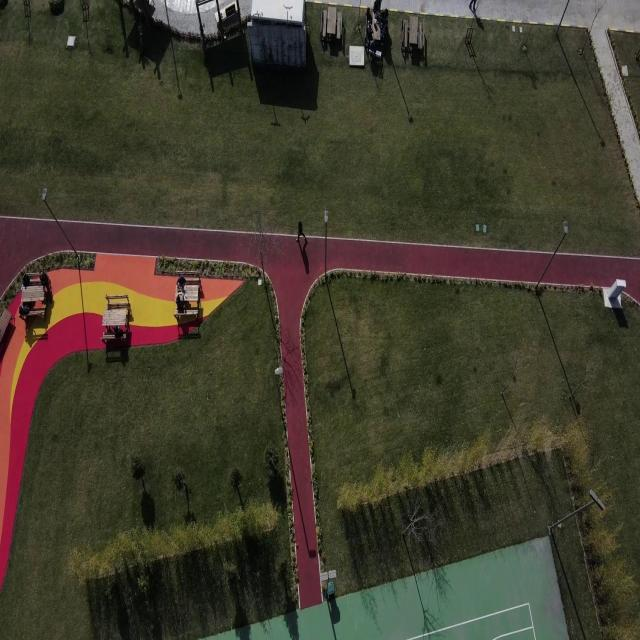p3rson: (39, 272, 52, 304), (296, 221, 307, 244), (175, 290, 185, 310), (112, 324, 123, 338), (20, 272, 30, 286), (176, 277, 186, 290), (18, 305, 29, 315), (469, 0, 477, 12), (368, 23, 373, 42), (382, 25, 388, 40), (381, 8, 389, 18), (367, 7, 372, 21), (381, 16, 388, 26), (374, 0, 378, 14)
